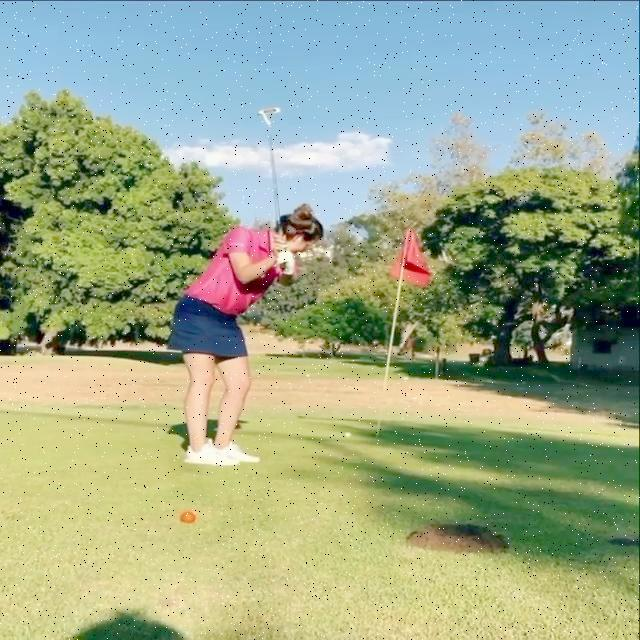ClubHandle: (256, 106, 286, 272)
ClubHead: (256, 105, 283, 116)
GolfBall: (178, 512, 198, 525)
